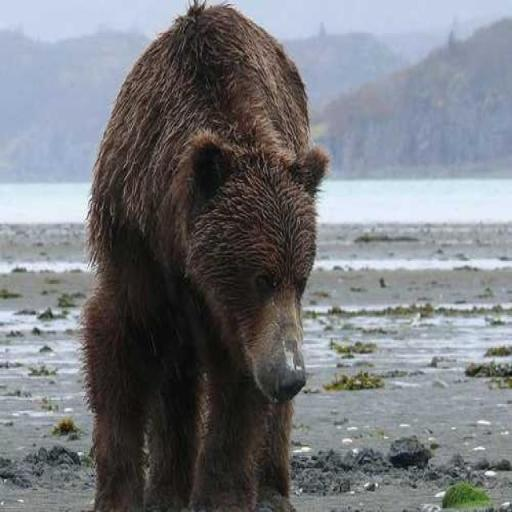Bear: (77, 0, 328, 510)
